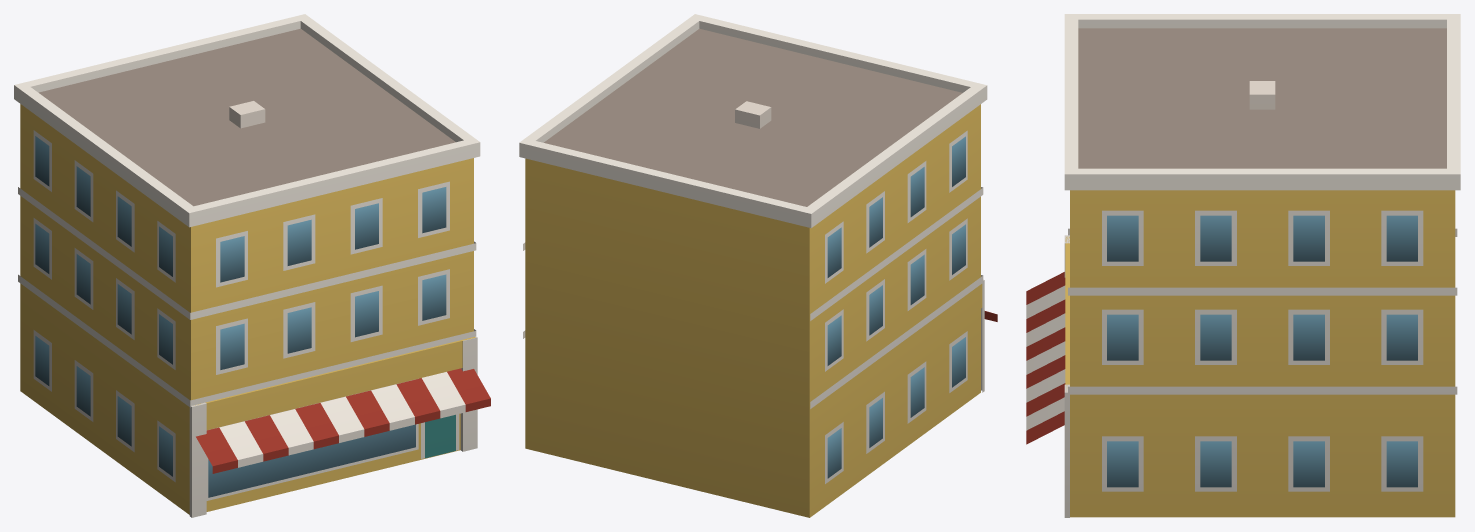
The model's file is beacon_w2_far.glb.
The picture shows the model from 3 angles, left to right: view 1: azimuth 30°, elevation 25°; view 2: azimuth 150°, elevation 25°; view 3: azimuth 270°, elevation 25°; orthographic projection. The views are drawn at different scales.
Visible parts, largest first — view 1: beacon_w2_far; view 2: beacon_w2_far; view 3: beacon_w2_far.
Boxes of the visible parts, x1=… form: beacon_w2_far: x1=14, y1=14, x2=490, y2=517; beacon_w2_far: x1=519, y1=14, x2=997, y2=517; beacon_w2_far: x1=1026, y1=14, x2=1460, y2=517.
Size of the model in its own units: 11.82 by 12.07 by 13.51.
Materials: 1 (1 with a texture image).
